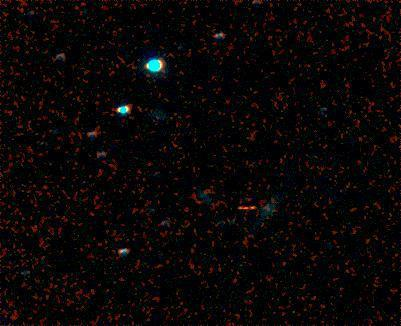star: (231, 195, 261, 225)
